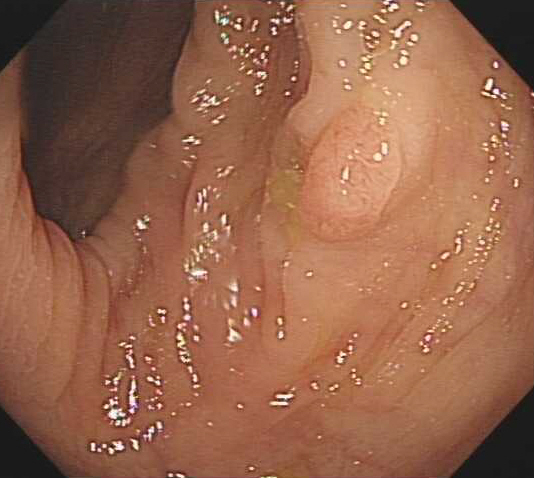others: (297, 103, 403, 246)
